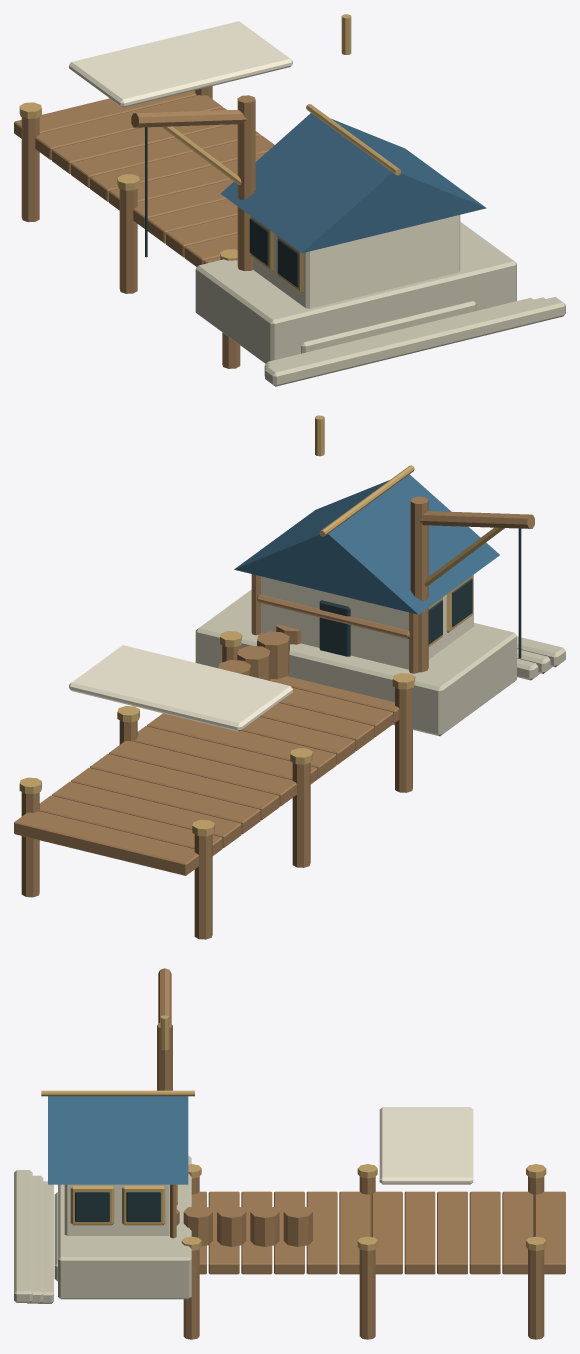
File: level_23.glb
3 renders of one model, top to bottom at view 1: azimuth 30°, elevation 25°; view 2: azimuth 150°, elevation 25°; view 3: azimuth 270°, elevation 25°, orthographic. The views are drawn at different scales.
Visible parts, largest first — view 1: fishing_wharf — level 23; view 2: fishing_wharf — level 23; view 3: fishing_wharf — level 23.
Part boxes in pixels (left/top/right/bottom): fishing_wharf — level 23: left=14, top=14, right=565, bottom=386; fishing_wharf — level 23: left=14, top=415, right=565, bottom=939; fishing_wharf — level 23: left=14, top=968, right=565, bottom=1339.
Size of the model in its own units: 5.14 by 4.77 by 8.27.
